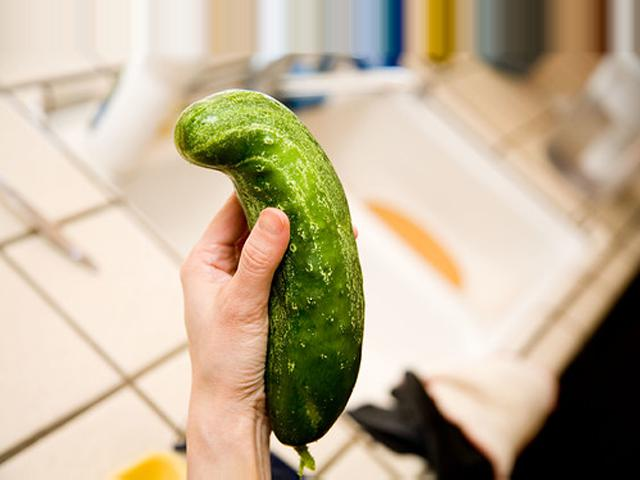cucumber: (174, 88, 366, 471)
